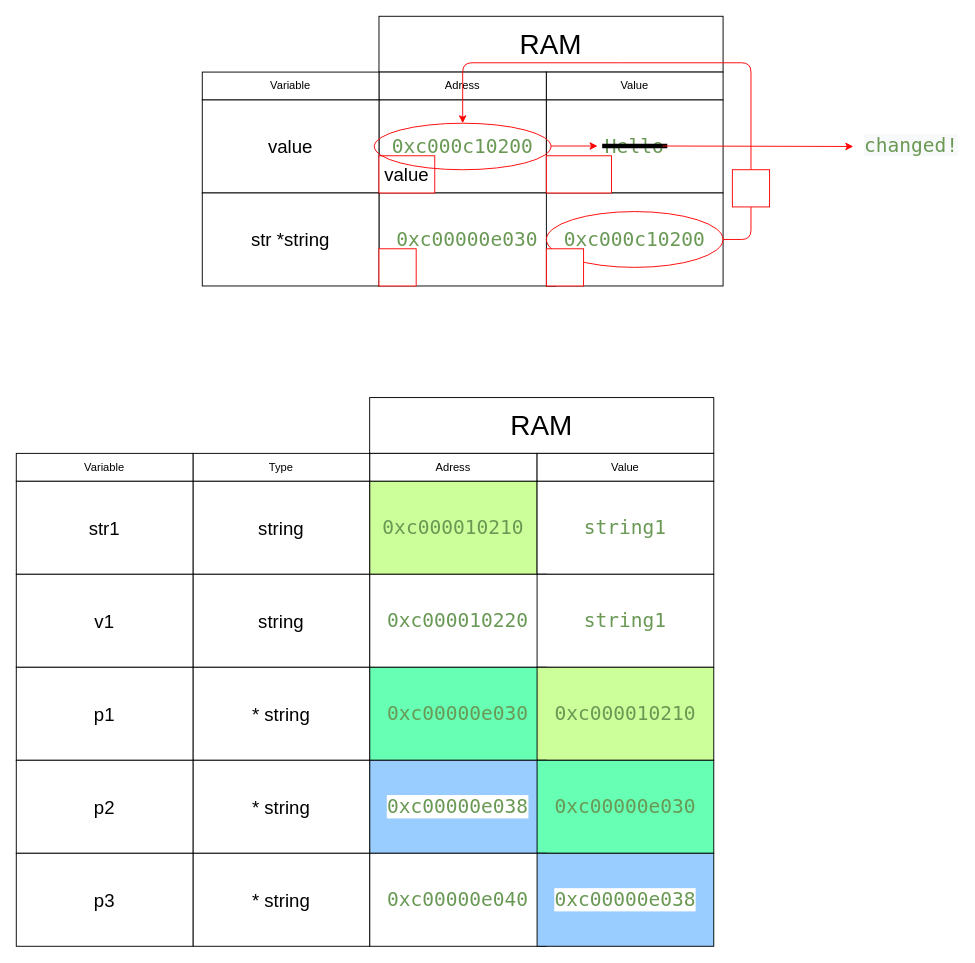
This 975x963 diagram has some shape labels left out. Each missing label, with the centre of its shape:
&str: the point at 397,267
&value: the point at 578,174
*str: the point at 750,188
str: the point at 564,267
